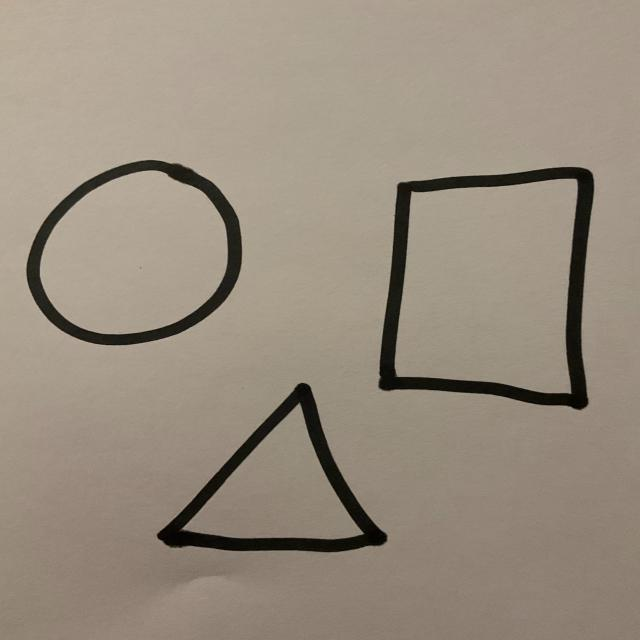Dreieck: (156, 384, 388, 556)
Kreis: (26, 159, 244, 349)
Quadrat: (378, 167, 596, 411)
